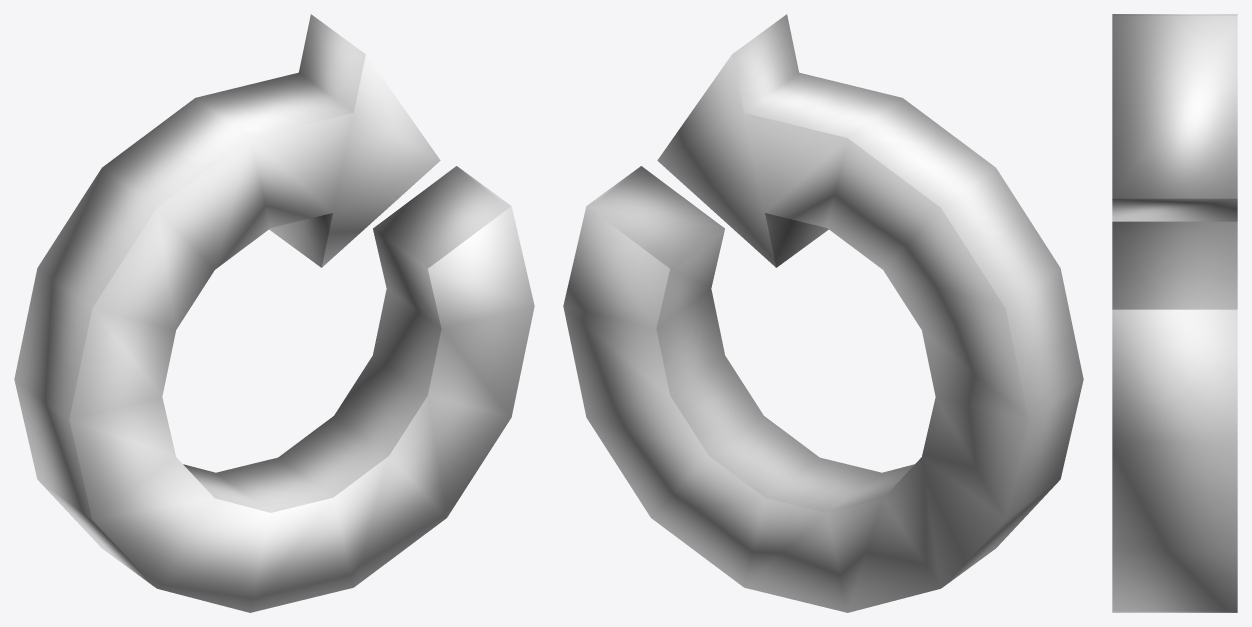
The model's file is Arrow24.fbx.
The picture shows the model from 3 angles, left to right: view 1: azimuth 30°, elevation 25°; view 2: azimuth 150°, elevation 25°; view 3: azimuth 270°, elevation 25°; orthographic projection. The views are drawn at different scales.
Parts seen in each view (by area): view 1: Arrow24; view 2: Arrow24; view 3: Arrow24.
Boxes of the visible parts, x1,y1,x2,y2 form: Arrow24: [14, 14, 534, 612]; Arrow24: [563, 14, 1083, 612]; Arrow24: [1112, 14, 1237, 612].
Bounding box in the file's own units: 3.76 × 4.09 × 0.7686.
